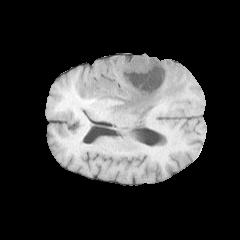glioma: (83, 55, 187, 119)
